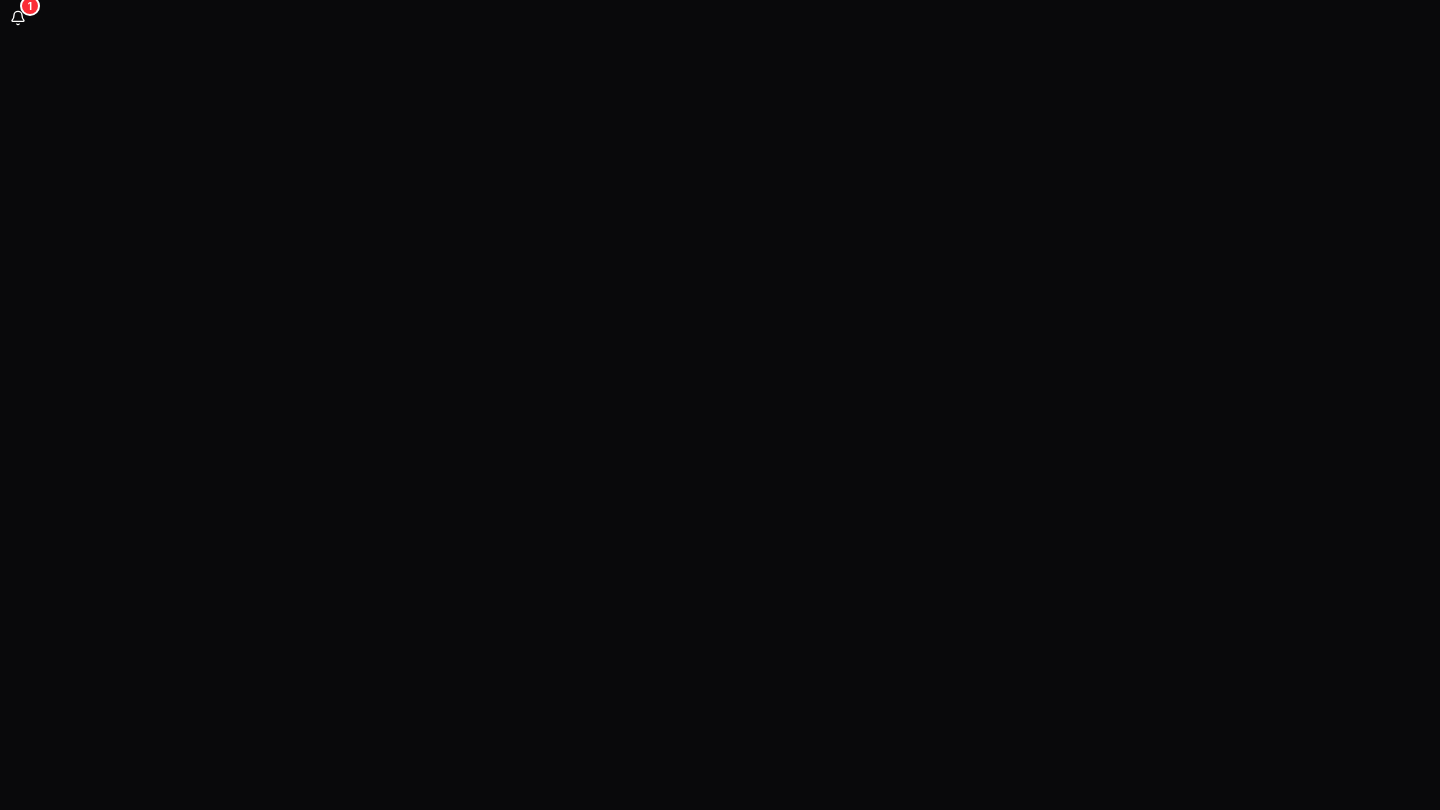
Test: NotificationCenter › displays notifications in dropdown
# Open dropdown
Click the button at (18,18), box [0, 0, 36, 36]
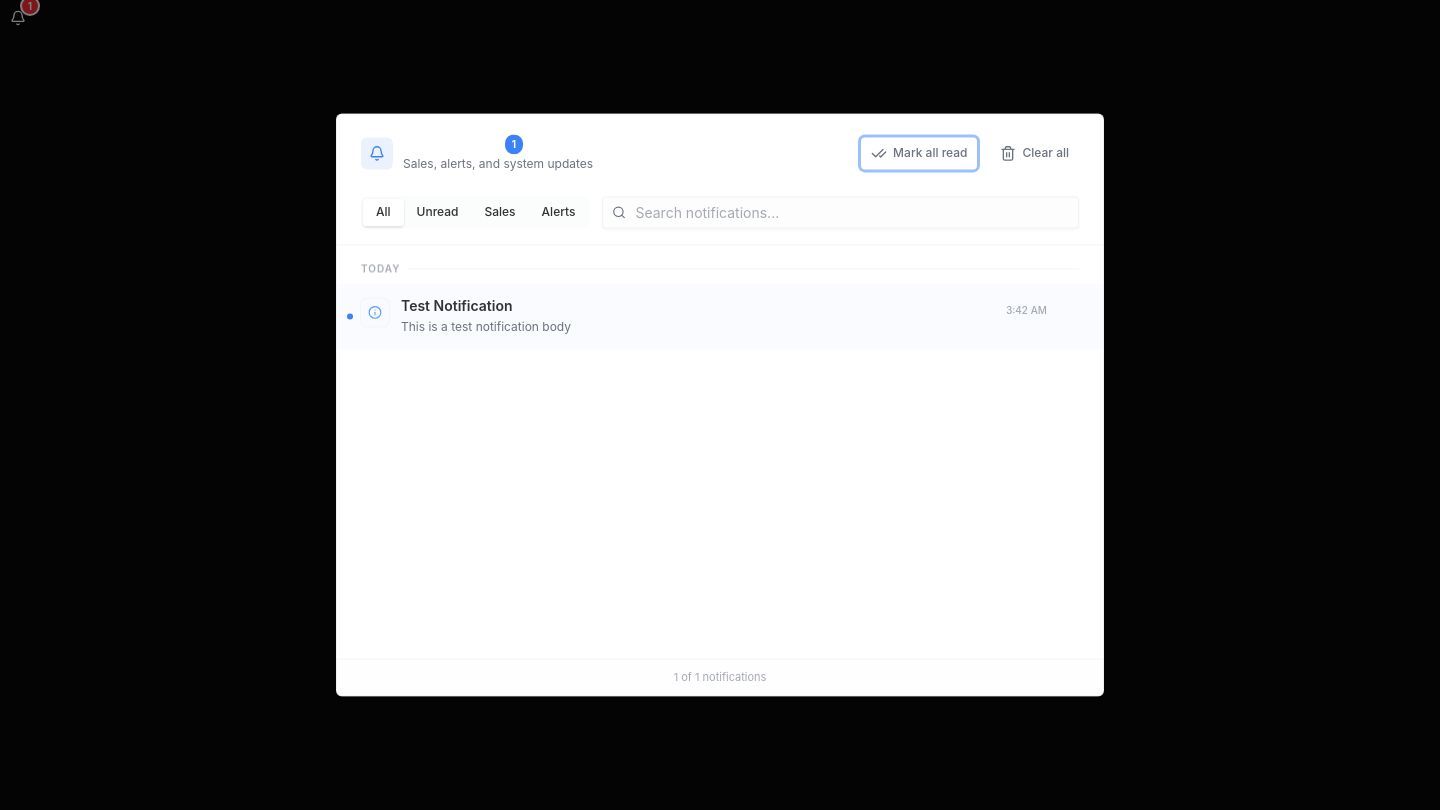
Now the text "Test Notification" is shown, box [401, 297, 513, 314]
Now the text "This is a test notification body" is shown, box [401, 318, 571, 337]
